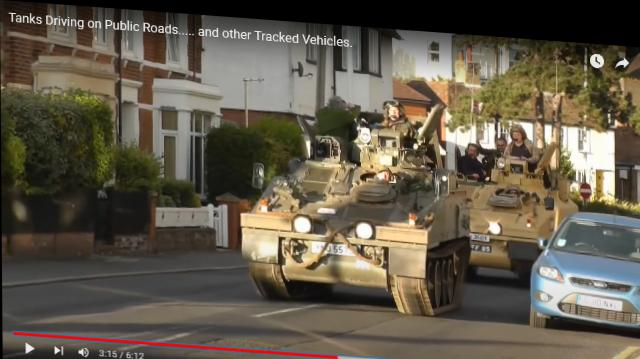other: (379, 91, 412, 127), (509, 113, 530, 148), (458, 136, 484, 162)
tank: (251, 132, 456, 304), (464, 161, 568, 268)
